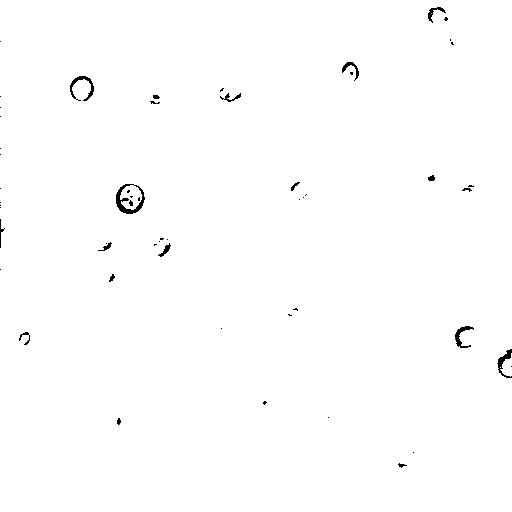micro-algae: (388, 438, 437, 485), (113, 182, 147, 214), (275, 309, 308, 331), (255, 391, 279, 421), (337, 58, 361, 87), (107, 405, 131, 432), (70, 76, 95, 101), (426, 4, 451, 29), (419, 165, 441, 193), (5, 446, 31, 469), (1, 218, 23, 245), (453, 326, 478, 348), (447, 31, 469, 55), (496, 343, 511, 378), (456, 183, 479, 205), (90, 233, 114, 254), (92, 265, 117, 285), (290, 179, 311, 202), (219, 83, 243, 103), (146, 0, 170, 19), (151, 237, 172, 257), (18, 329, 33, 347), (183, 0, 204, 6)
